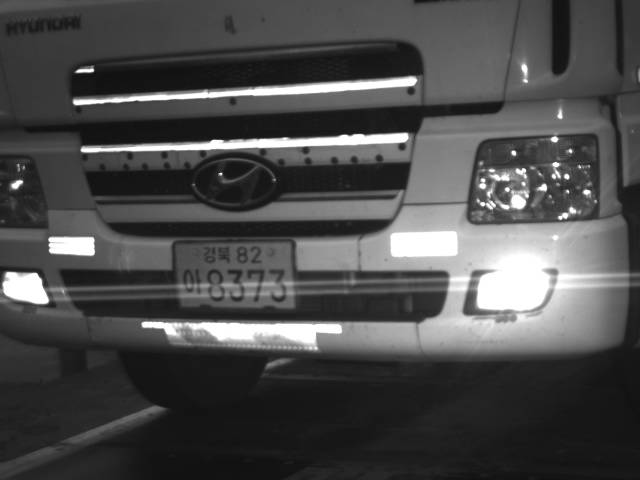car: (1, 1, 637, 413)
plate: (169, 239, 299, 311)
